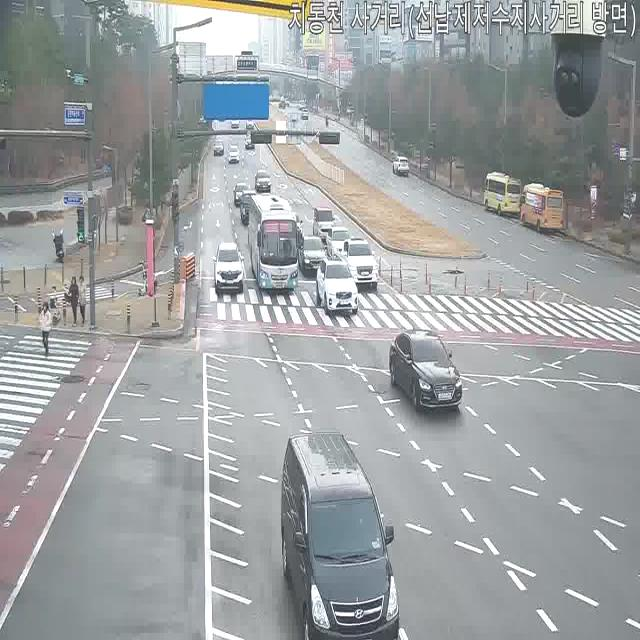Bus: (249, 194, 303, 292), (519, 182, 565, 234), (482, 172, 524, 216)
Car: (283, 438, 405, 640), (392, 331, 468, 417), (316, 259, 360, 317), (338, 238, 378, 289), (213, 243, 245, 295), (298, 235, 328, 279), (312, 205, 337, 243), (326, 225, 352, 261), (238, 190, 258, 226), (254, 170, 272, 193), (233, 182, 250, 206), (391, 155, 408, 176), (227, 144, 239, 164), (212, 139, 224, 157), (244, 134, 255, 152), (289, 110, 299, 124), (278, 96, 288, 108), (299, 109, 309, 119), (297, 99, 306, 110)
Motorcycle: (323, 115, 329, 128)
Truck: (239, 191, 257, 226)
